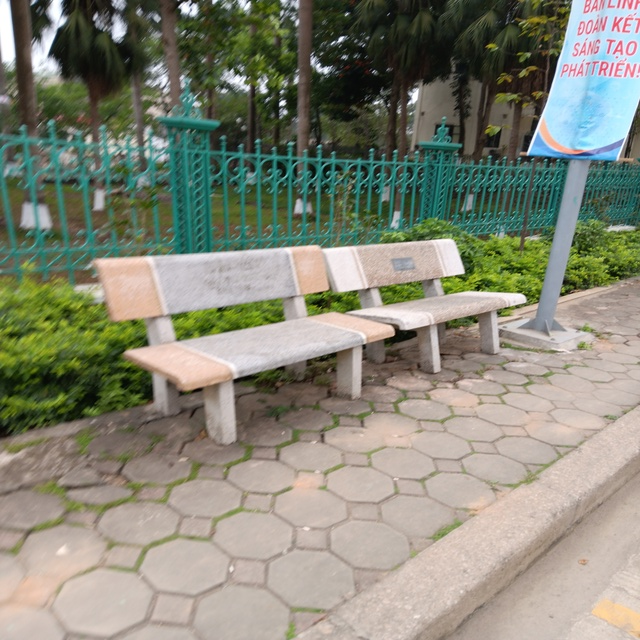gheda: (84, 242, 393, 440), (313, 233, 539, 382)
